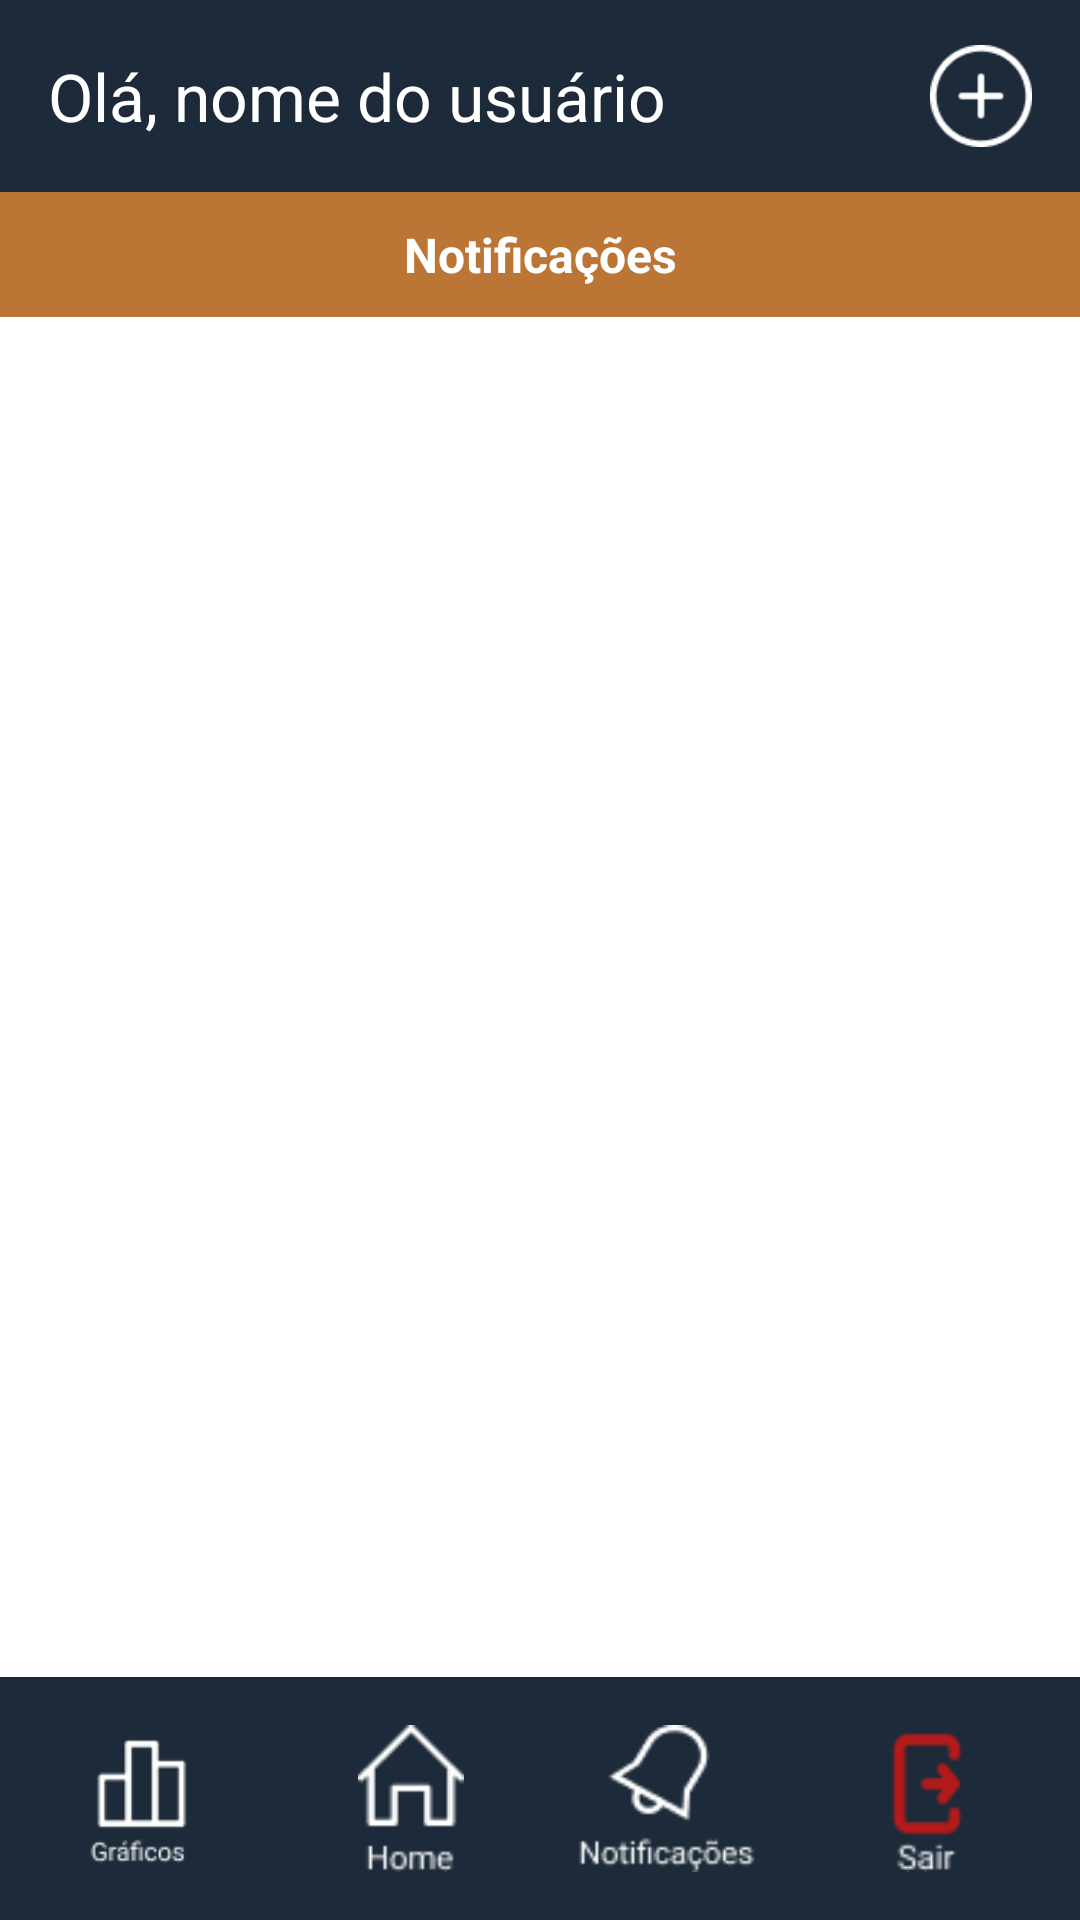

Named icons in this screenshot (1080×1920) and their centers, (x=x, y=y):
Adicionar Notificação: (x=981, y=96)
